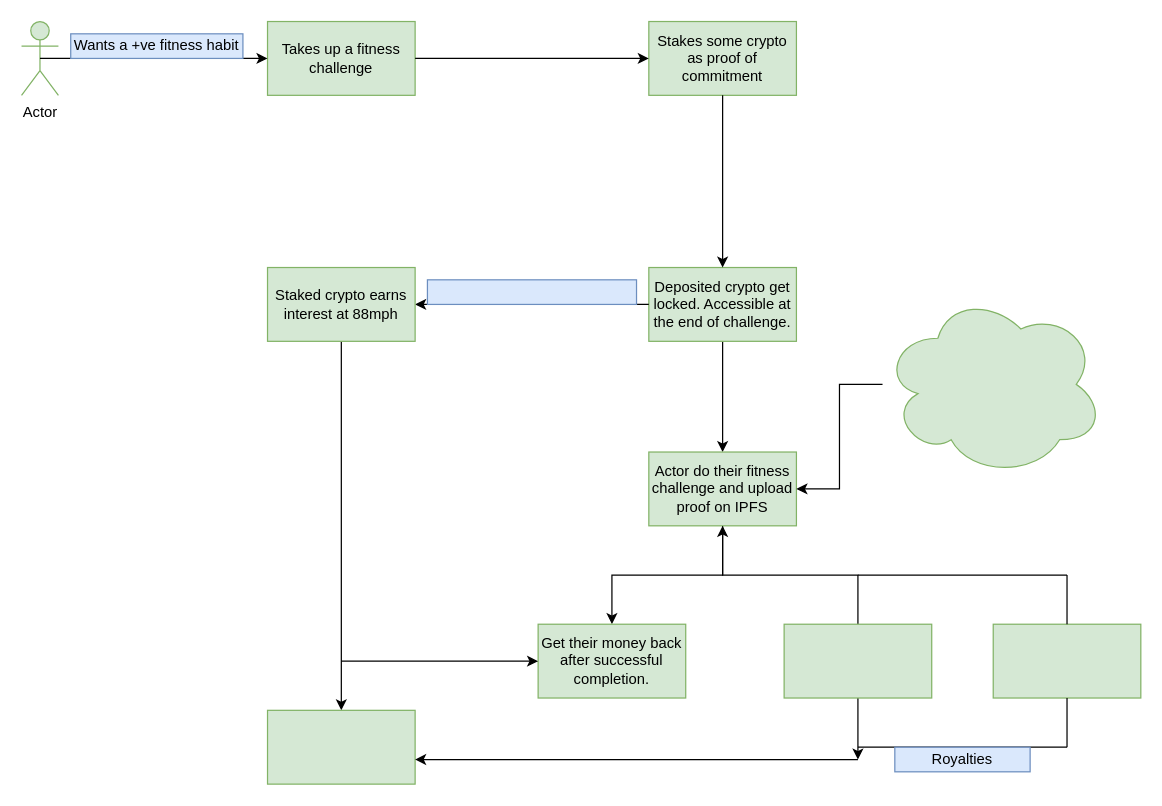
The diagram is 1162 pixels wide and 806 high, and some of its shapes have lost their labels. Each missing label, with the box of its shape:
Actors can mint NFTs of their challenge data: (992, 623, 1141, 698)
Concept of global immutable accountability: (881, 291, 1104, 477)
For the duration of challenge: (426, 279, 637, 304)
For unsuccessful days their staked amount get deducted: (783, 623, 932, 698)
Income generated for RunETH: (266, 709, 415, 784)
